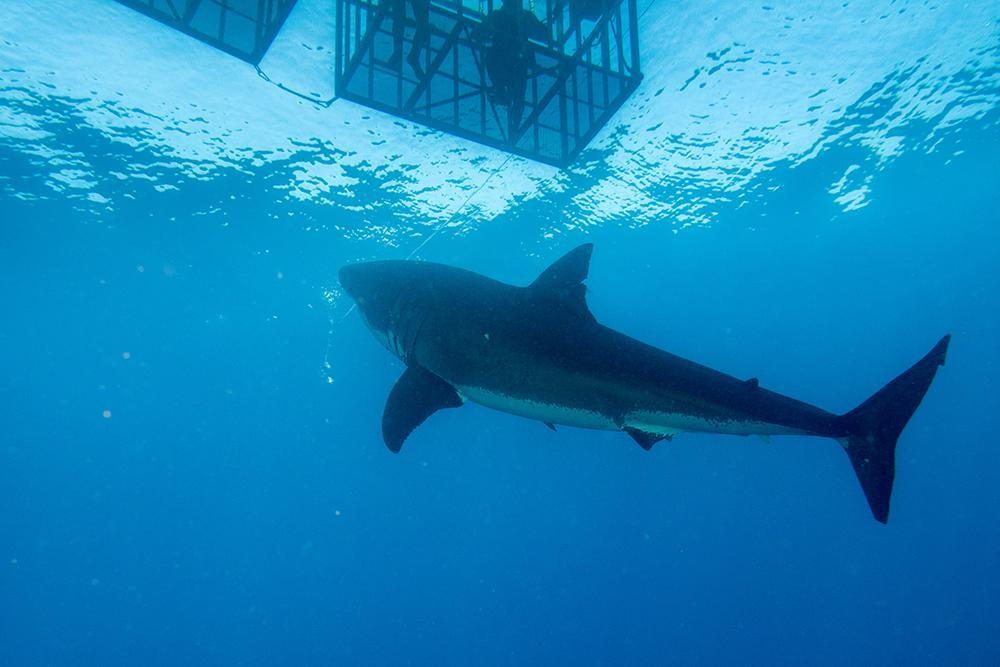fish: (335, 248, 958, 532)
